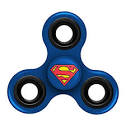fidget_spinner: (3, 3, 124, 120)
